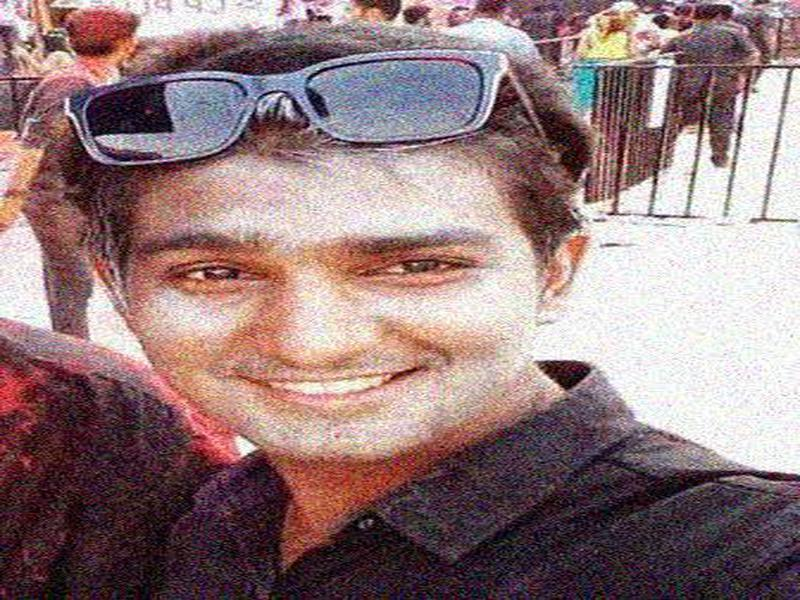without_mask: (104, 172, 536, 459)
